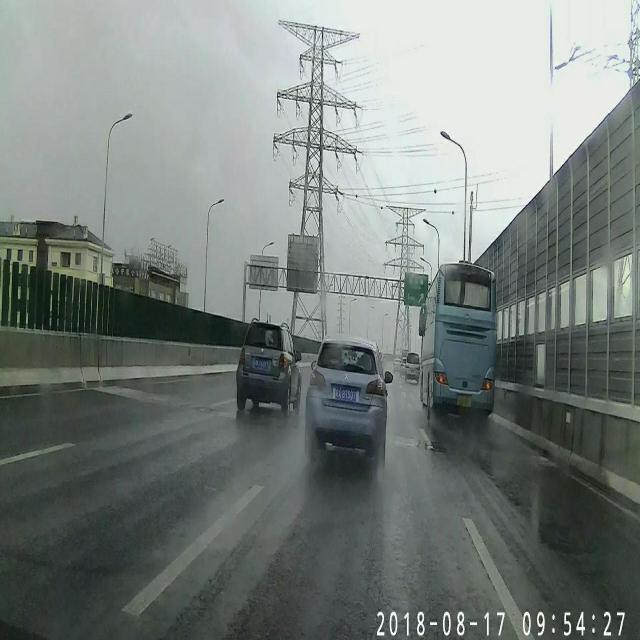car: (304, 336, 391, 466), (236, 316, 300, 416), (408, 350, 420, 379), (392, 356, 402, 374)
